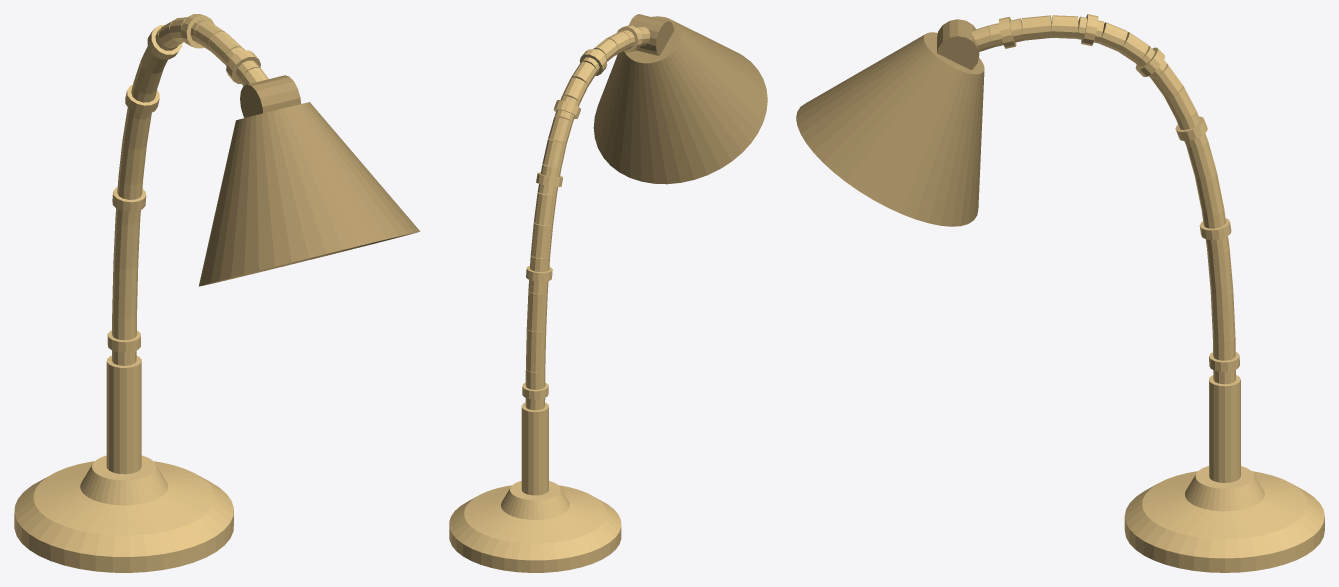
The model's file is Prop_DeskLamp.fbx.
3 views of the same model, side by side, from view 1: azimuth 30°, elevation 25°; view 2: azimuth 150°, elevation 25°; view 3: azimuth 270°, elevation 25° (orthographic). The views are drawn at different scales.
Parts seen in each view (by area): view 1: DeskLamp_Body, DeskLamp_Cowl; view 2: DeskLamp_Body, DeskLamp_Cowl; view 3: DeskLamp_Body, DeskLamp_Cowl.
Boxes of the visible parts, x1=… form: DeskLamp_Body: x1=14, y1=14, x2=268, y2=572; DeskLamp_Cowl: x1=198, y1=75, x2=419, y2=286; DeskLamp_Body: x1=449, y1=25, x2=650, y2=572; DeskLamp_Cowl: x1=593, y1=14, x2=767, y2=184; DeskLamp_Body: x1=971, y1=14, x2=1324, y2=572; DeskLamp_Cowl: x1=796, y1=19, x2=984, y2=226.
Bounding box in the file's own units: 0.156 × 0.4261 × 0.3964.
